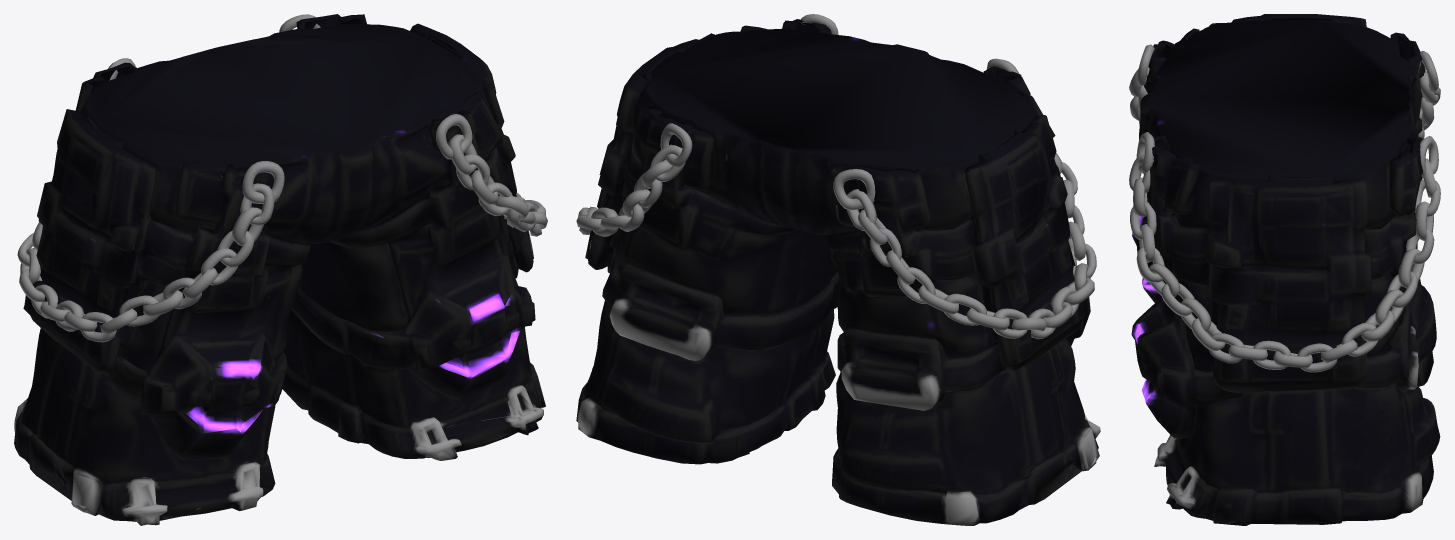
File: Pants_low.glb
3 renders of one model, left to right at view 1: azimuth 30°, elevation 25°; view 2: azimuth 150°, elevation 25°; view 3: azimuth 270°, elevation 25°, orthographic. The views are drawn at different scales.
Visible parts, largest first — view 1: Pants_low; view 2: Pants_low; view 3: Pants_low.
Boxes of the visible parts, left/top/right/bottom form: Pants_low: left=14, top=14, right=547, bottom=525; Pants_low: left=576, top=14, right=1100, bottom=525; Pants_low: left=1129, top=14, right=1440, bottom=525.
Size of the model in its own units: 0.4963 by 0.3486 by 0.2977.
2 materials, 2 textured.
